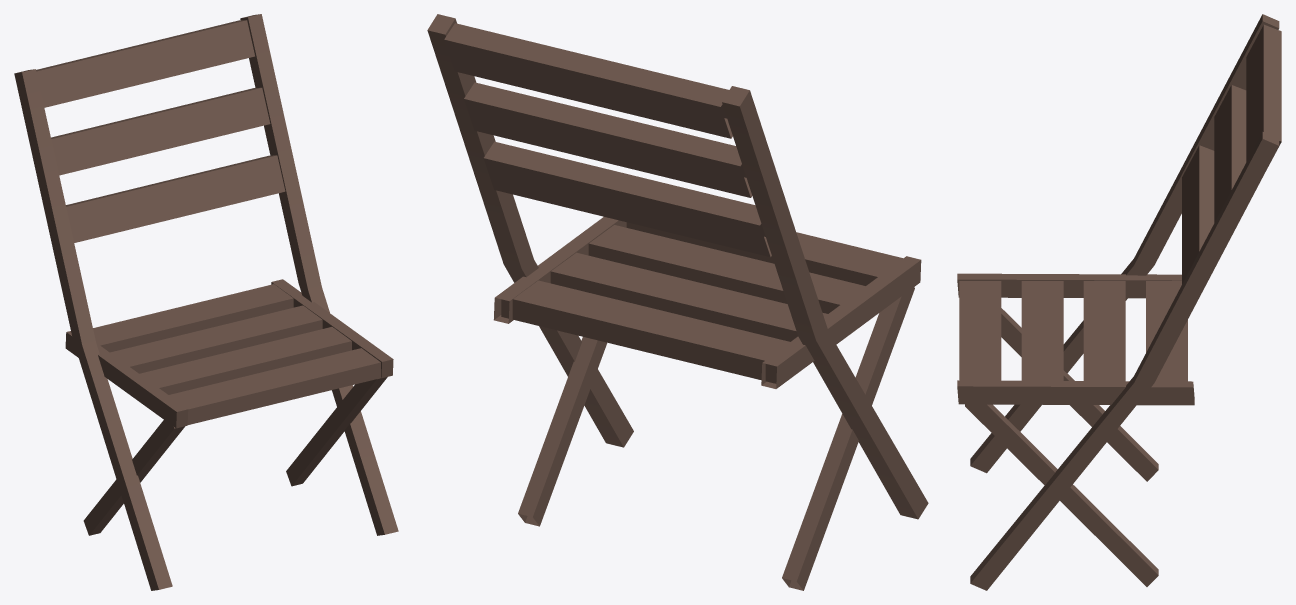
The model's file is garden chair.fbx.
3 renders of one model, left to right at view 1: azimuth 30°, elevation 25°; view 2: azimuth 150°, elevation 25°; view 3: azimuth 270°, elevation 25°, orthographic. The views are drawn at different scales.
Visible parts, largest first — view 1: polySurface161; view 2: polySurface161; view 3: polySurface161.
Boxes of the visible parts, box(x1,y1,x2,y2) form: polySurface161: box(14, 14, 398, 590); polySurface161: box(427, 14, 928, 590); polySurface161: box(957, 14, 1281, 590).
Bounding box in the file's own units: 0.7421 × 1.26 × 0.8157.
